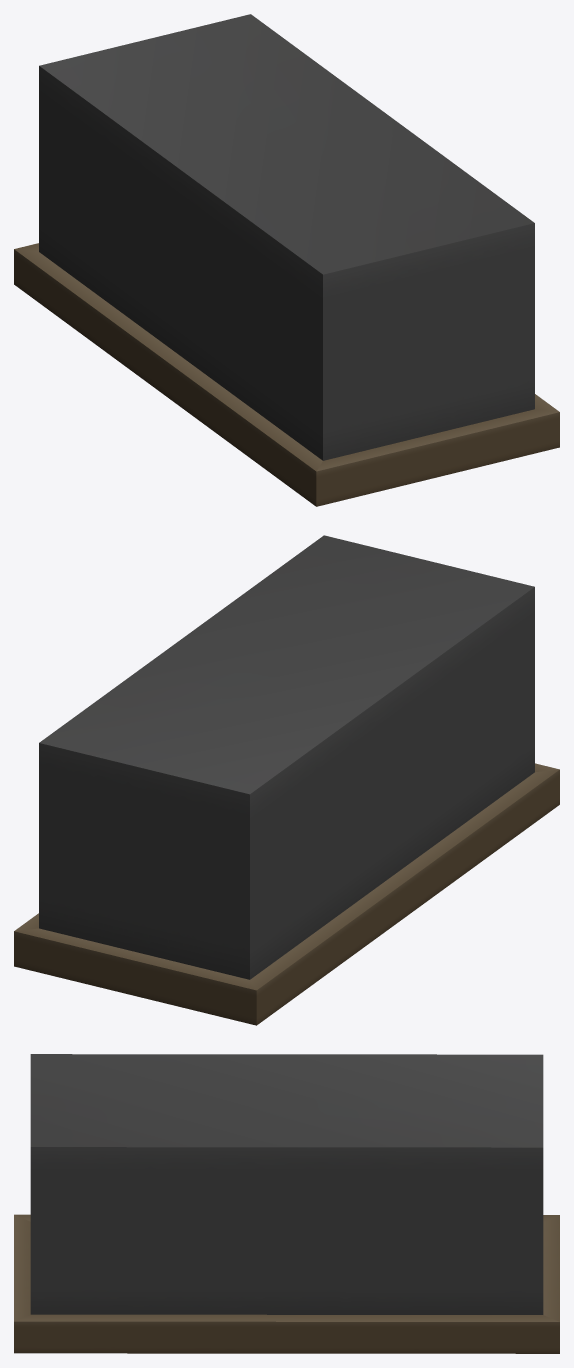
The picture shows the model from 3 angles, top to bottom: view 1: azimuth 30°, elevation 25°; view 2: azimuth 150°, elevation 25°; view 3: azimuth 270°, elevation 25°; orthographic projection. The views are drawn at different scales.
Parts seen in each view (by area): view 1: Base_2x1; view 2: Base_2x1; view 3: Base_2x1.
Boxes of the visible parts, <box> form: Base_2x1: <box>14,14,559,506</box>; Base_2x1: <box>14,535,559,1025</box>; Base_2x1: <box>14,1054,559,1353</box>.
Size of the model in its own units: 86.42 by 74.79 by 186.
